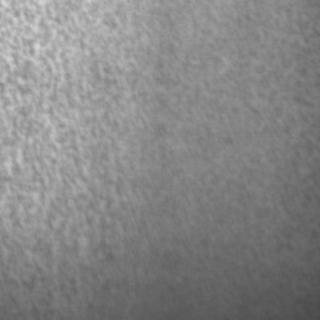pitted_surface: (2, 0, 312, 292)
